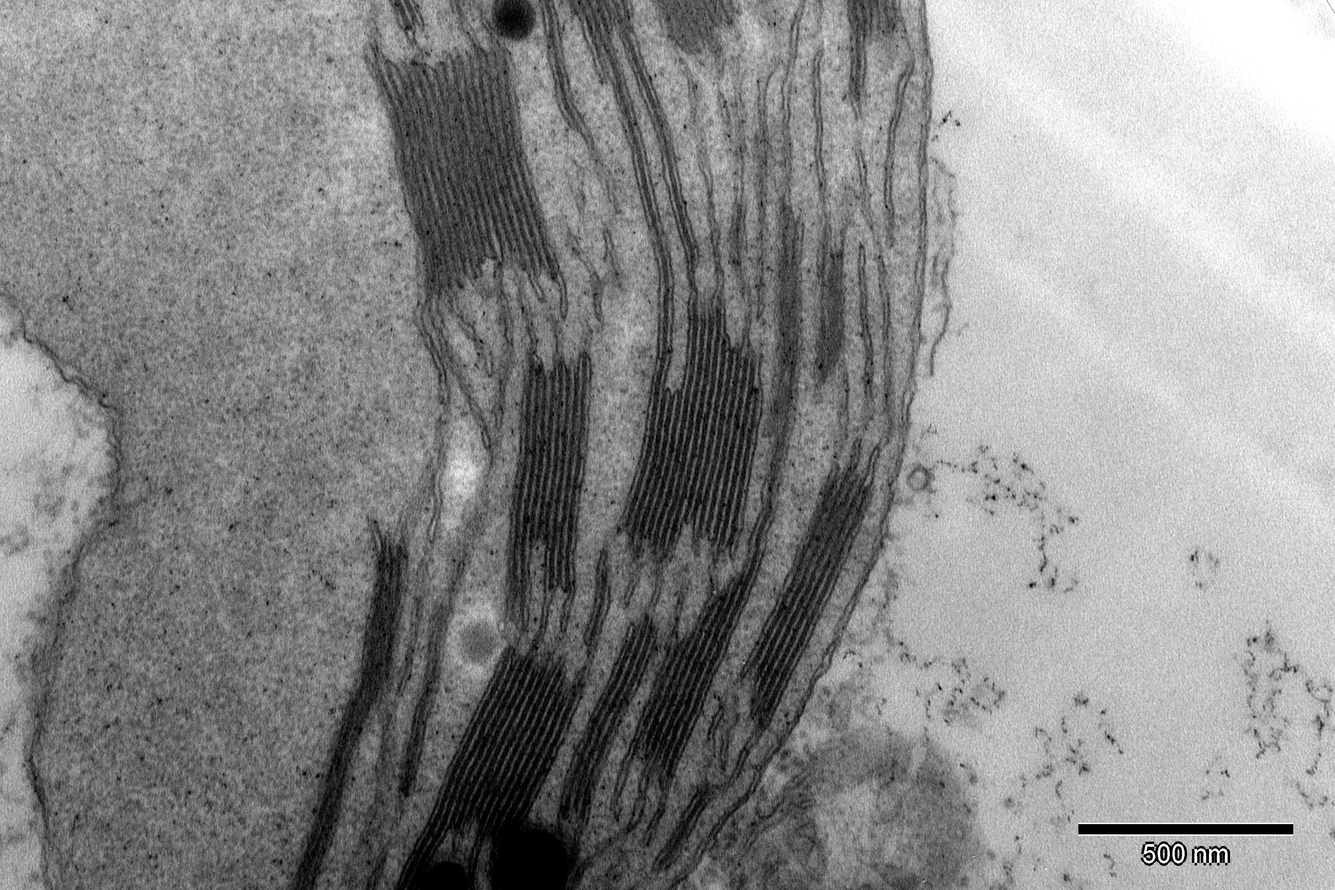granum: (365, 49, 564, 305), (392, 642, 586, 890), (615, 286, 766, 559), (737, 457, 877, 731), (626, 574, 758, 780), (502, 350, 593, 628), (558, 620, 660, 828), (761, 211, 805, 439), (354, 540, 412, 691), (565, 0, 635, 86), (648, 0, 748, 59), (811, 240, 848, 371), (843, 0, 909, 40), (386, 0, 426, 33)
